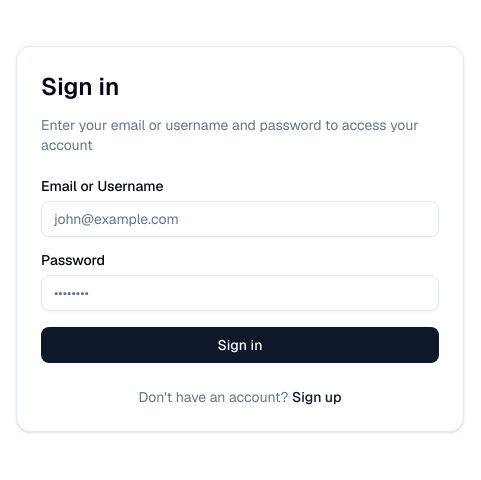
Test: LoginPage › Error Handling › should display error message when login fails
In the field labelled "Email or Username": [240, 219] box [41,201,439,237], type "test@example.com"
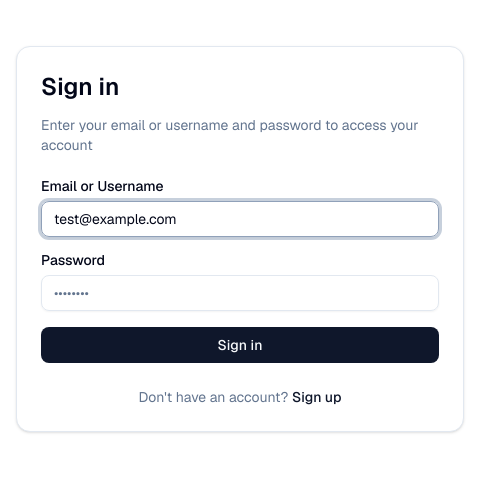
In the password field labelled "Password": [240, 293] box [41,275,439,311], type "wrongpassword"
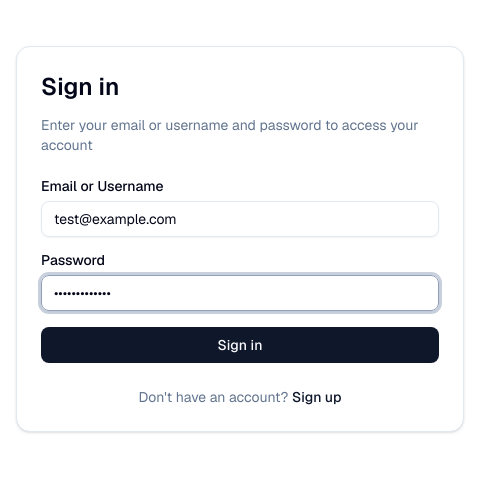
Click the button "Sign in": [240, 345] box [41,327,439,363]
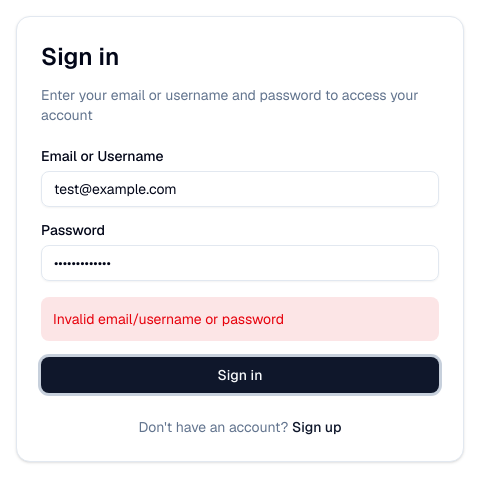
Expected: the text "Invalid email/username or password" is shown, [41,297,439,341]
